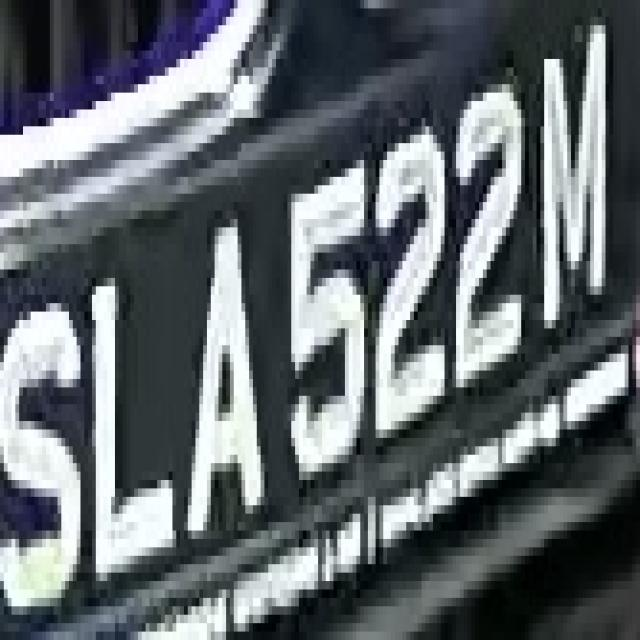2: (368, 101, 452, 446), (444, 92, 532, 412)
5: (272, 118, 379, 497)
A: (173, 202, 272, 556)
L: (81, 244, 180, 590)
M: (529, 25, 617, 354)
S: (8, 269, 80, 640)
